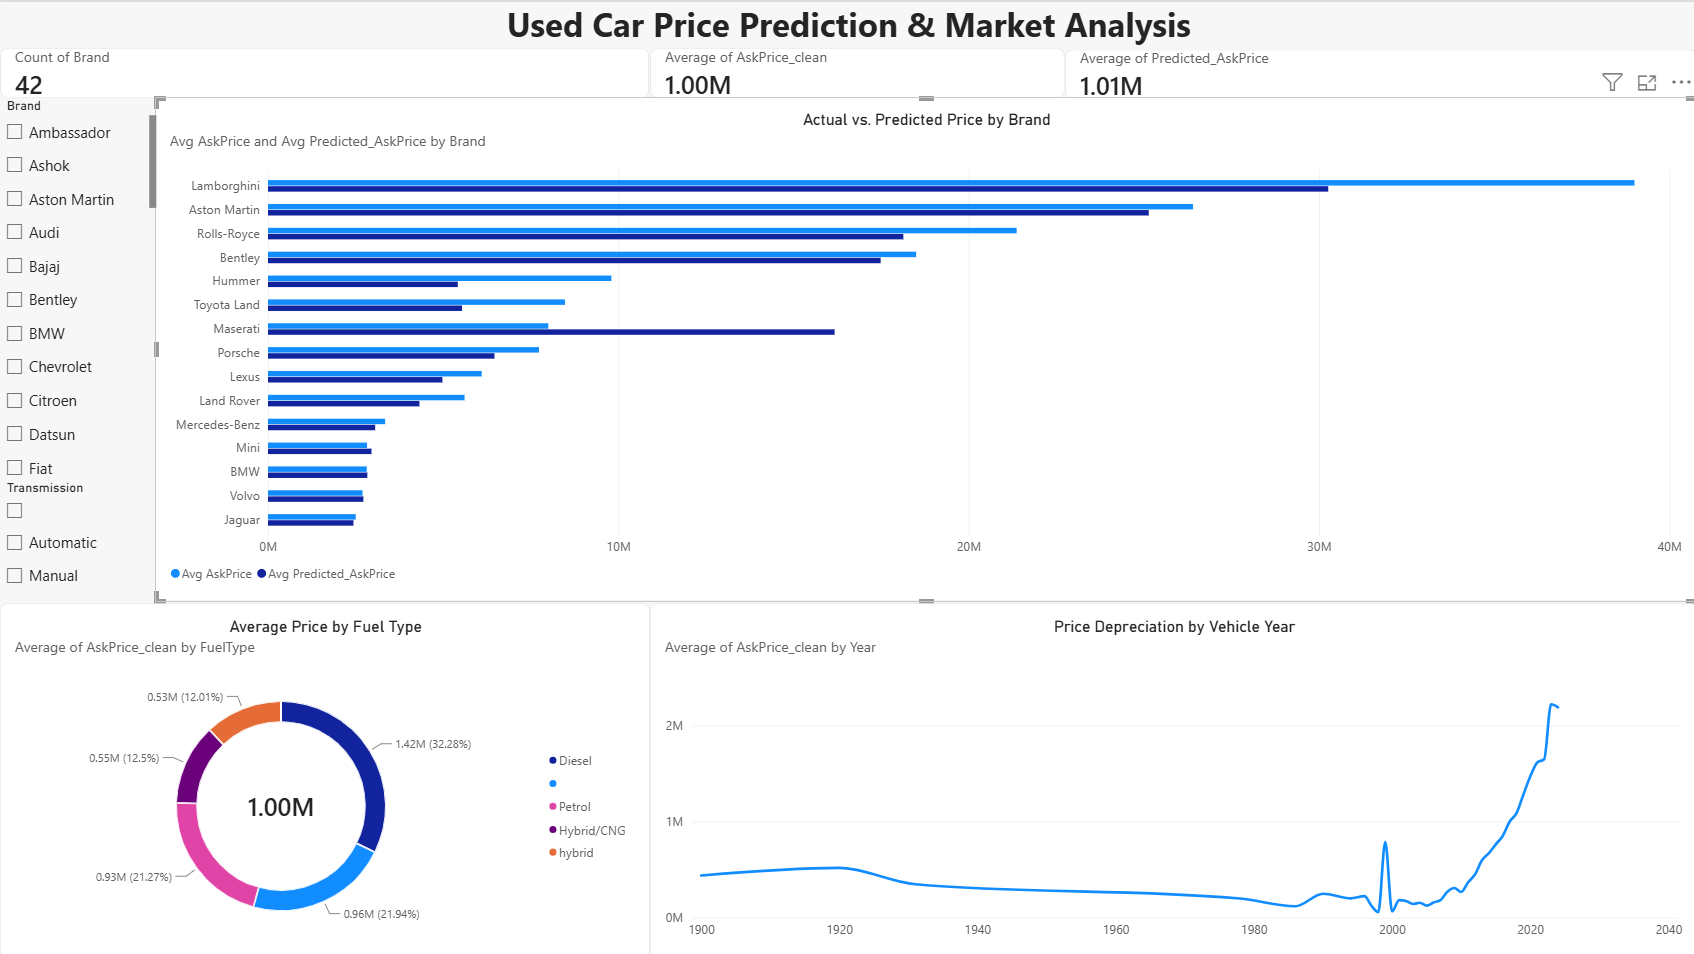

Layout of this report page (visuals, bound fields, positions):
{"tool":"powerbi","page":{"name":"Page 1","canvas":[1920,1080],"ordinal":0},"visuals":[{"type":"cardVisual","fields":{"Data":["Count(processed_car_data.Brand)"]},"box":[0,52.5,734.8,56.9],"z":0},{"type":"cardVisual","fields":{"Data":["Avg(processed_car_data.AskPrice_clean)"]},"box":[734.8,52.5,469.4,56.9],"z":1},{"type":"cardVisual","fields":{"Data":["Avg(processed_car_data.Predicted_AskPrice)"]},"box":[1204.2,53.9,715.8,56.9],"z":2},{"type":"clusteredBarChart","title":"Actual vs. Predicted Price by Brand","fields":{"Category":["processed_car_data.Brand"],"Y":["Avg(processed_car_data.AskPrice_clean)","Avg(processed_car_data.Predicted_AskPrice)"]},"box":[175.8,107.7,1744.2,570.3],"z":3},{"type":"donutChart","title":"Average Price by Fuel Type","fields":{"Category":["processed_car_data.FuelType"],"Y":["Avg(processed_car_data.AskPrice_clean)"]},"box":[0,679.6,735,400.8],"z":4},{"type":"lineChart","title":"Price Depreciation by Vehicle Year","fields":{"Category":["processed_car_data.Year"],"Y":["Avg(processed_car_data.AskPrice_clean)"]},"box":[734.8,679.4,1185.3,400.9],"z":5},{"type":"slicer","fields":{"Values":["processed_car_data.Brand"]},"box":[0,109.3,176.4,430.1],"z":6},{"type":"slicer","fields":{"Values":["processed_car_data.Transmission"]},"box":[0,539.4,176.4,140],"z":7},{"type":"textbox","box":[0,0,1920,52.5],"z":8}]}

Visuals, with their boxes in screenshot pixels (x1, y1, x2, y2), scaled from the page's 1920x1080 canvas onto the 1694x954 screenshot:
cardVisual - Count(processed_car_data.Brand): [0, 46, 648, 97]
cardVisual - Avg(processed_car_data.AskPrice_clean): [648, 46, 1062, 97]
cardVisual - Avg(processed_car_data.Predicted_AskPrice): [1062, 48, 1693, 98]
"Actual vs. Predicted Price by Brand" clusteredBarChart: [155, 95, 1693, 599]
"Average Price by Fuel Type" donutChart: [0, 600, 648, 953]
"Price Depreciation by Vehicle Year" lineChart: [648, 600, 1693, 953]
slicer - processed_car_data.Brand: [0, 97, 156, 476]
slicer - processed_car_data.Transmission: [0, 476, 156, 600]
textbox: [0, 0, 1693, 46]
